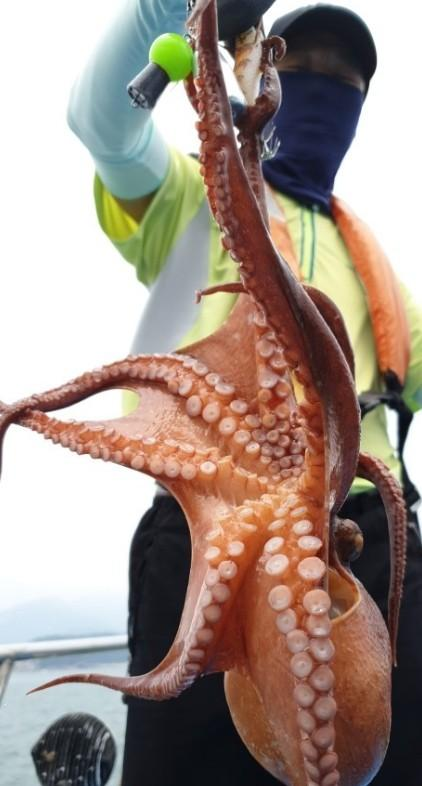Cephalopod: (0, 0, 406, 785)
